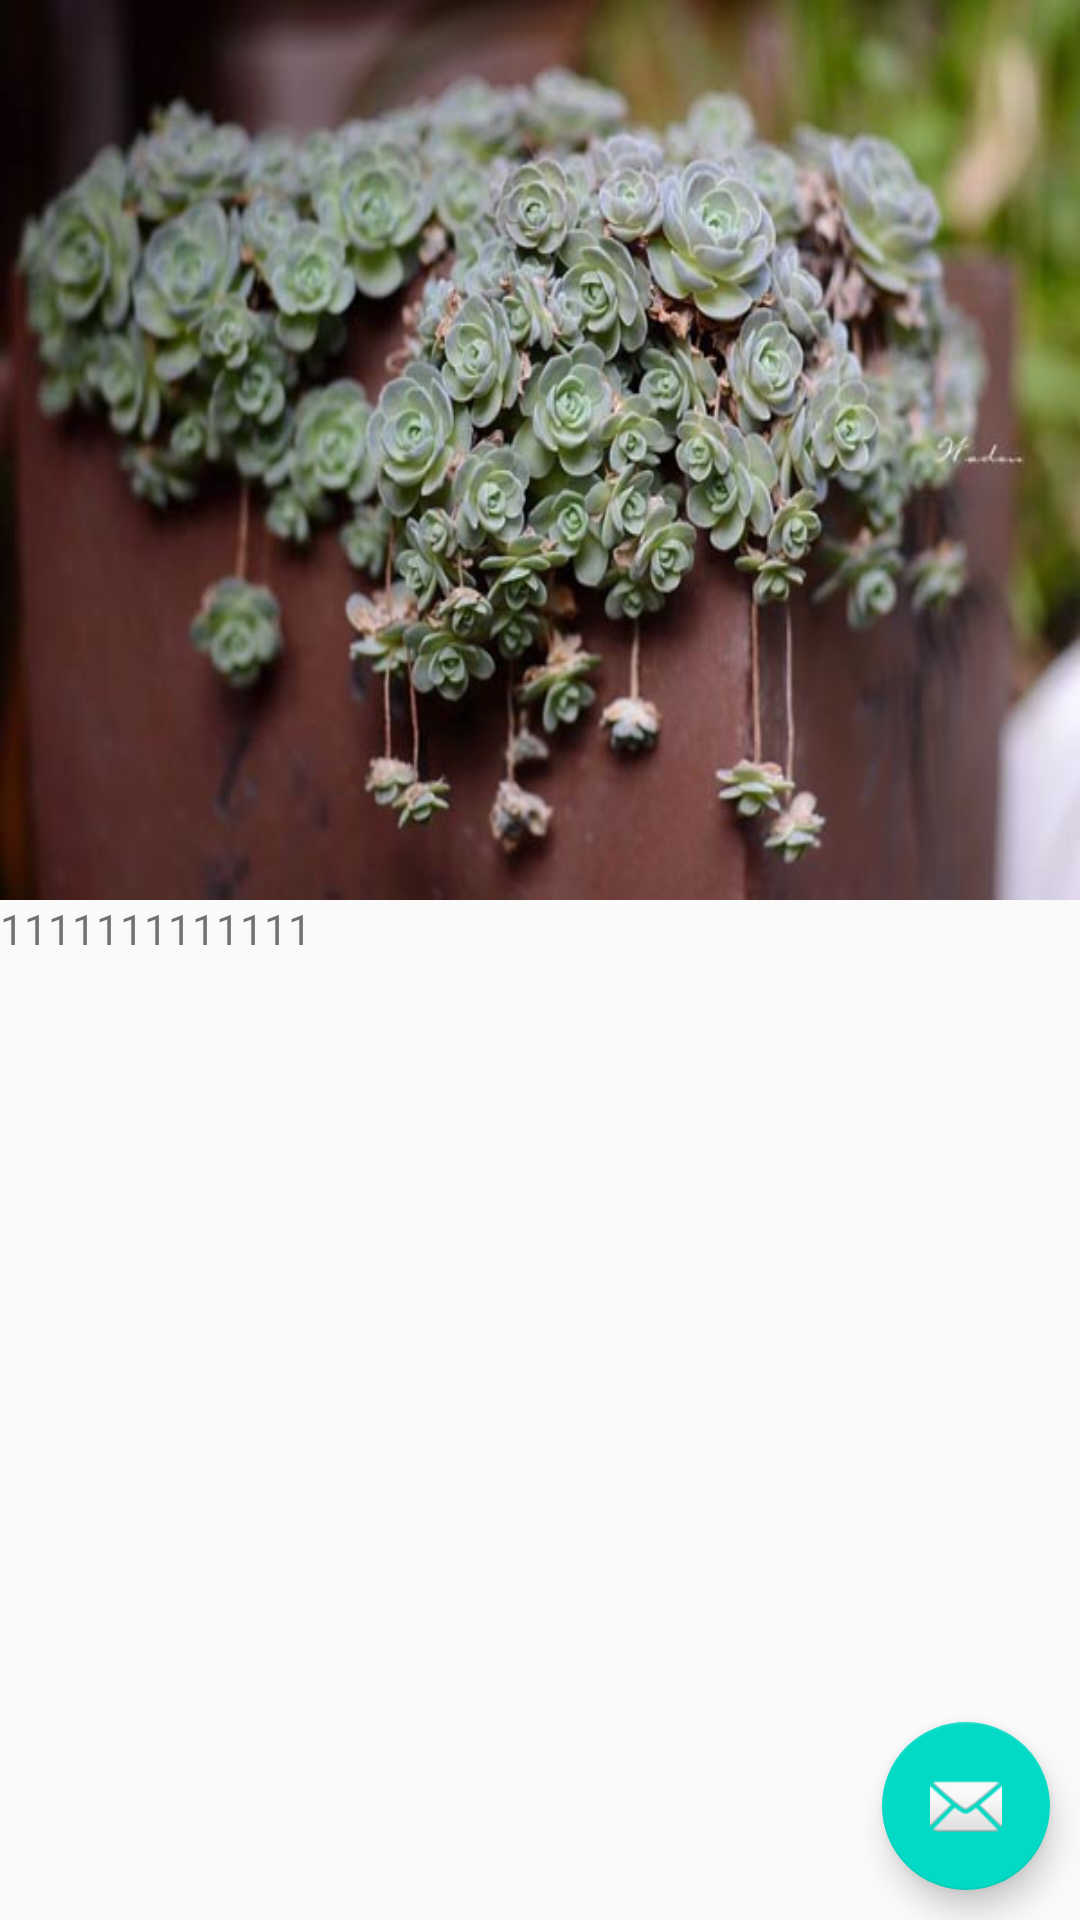

Screen size 1080 x 1920. Icon name, then its box in pixels as (x1, y1, x2, y2):
email: (882, 1722, 1050, 1890)
